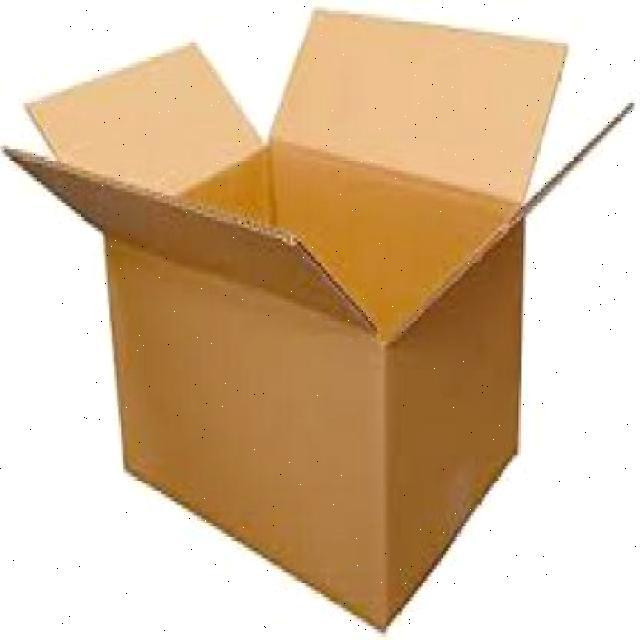box: (1, 8, 635, 634)
opened: (1, 8, 634, 339)
